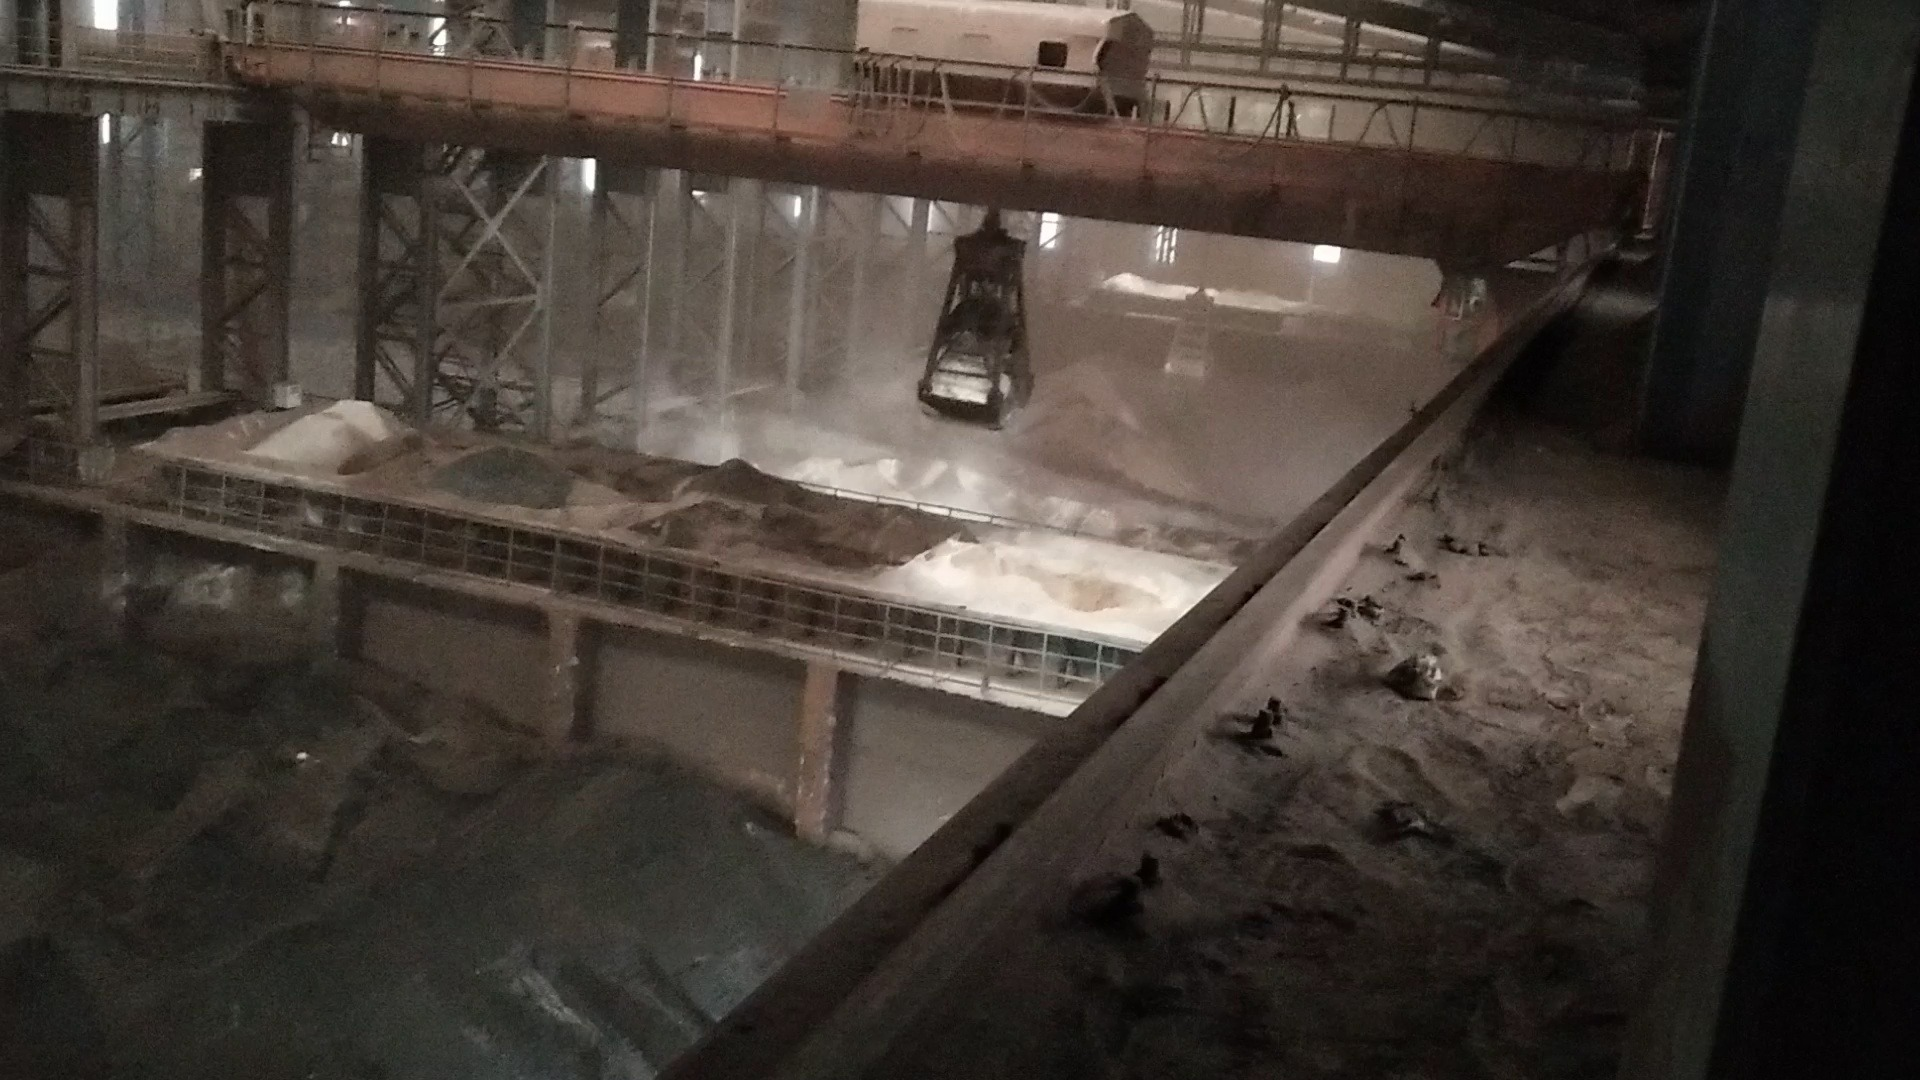dust: (651, 335, 1076, 512), (1213, 410, 1385, 529)
grab: (910, 210, 1042, 433), (1156, 278, 1220, 386)
